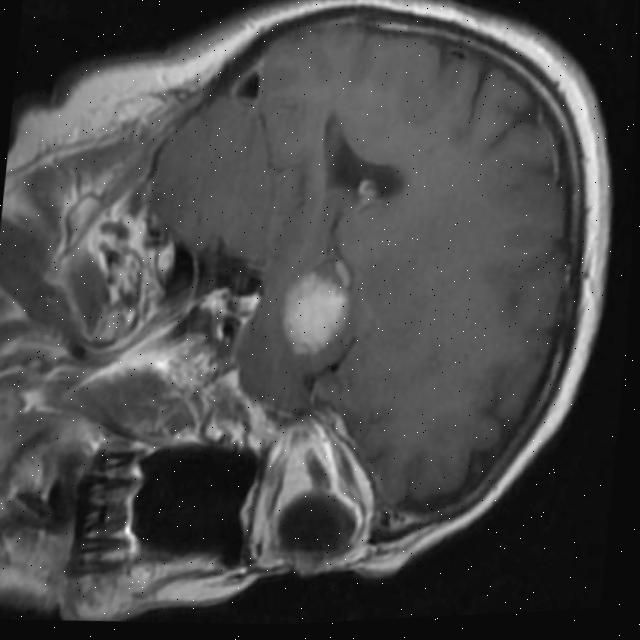Meningioma: (275, 265, 354, 362)
